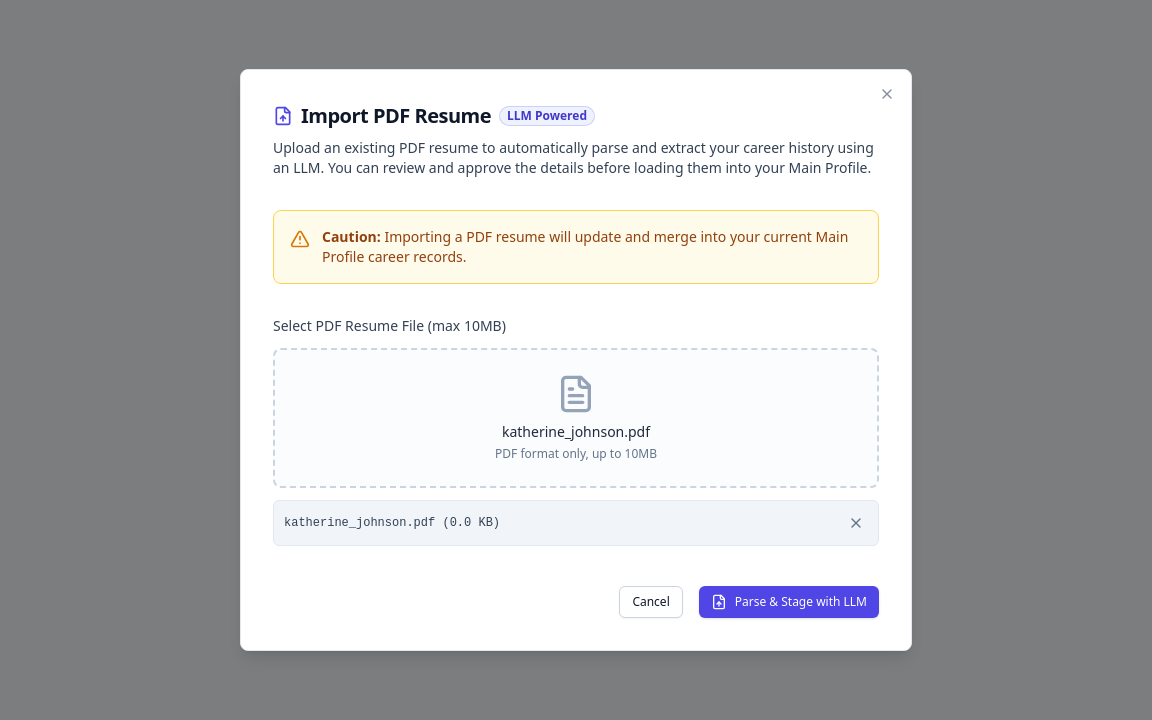
it: ImportPDFDialog › completes full staging and commit lifecycle: parse -> review -> commit
Earlier steps of the test are not shown.
Later steps or results of the test are not shown.
Click the button "Parse & Stage with LLM" at coordinates (789, 602), box [699, 586, 879, 618]
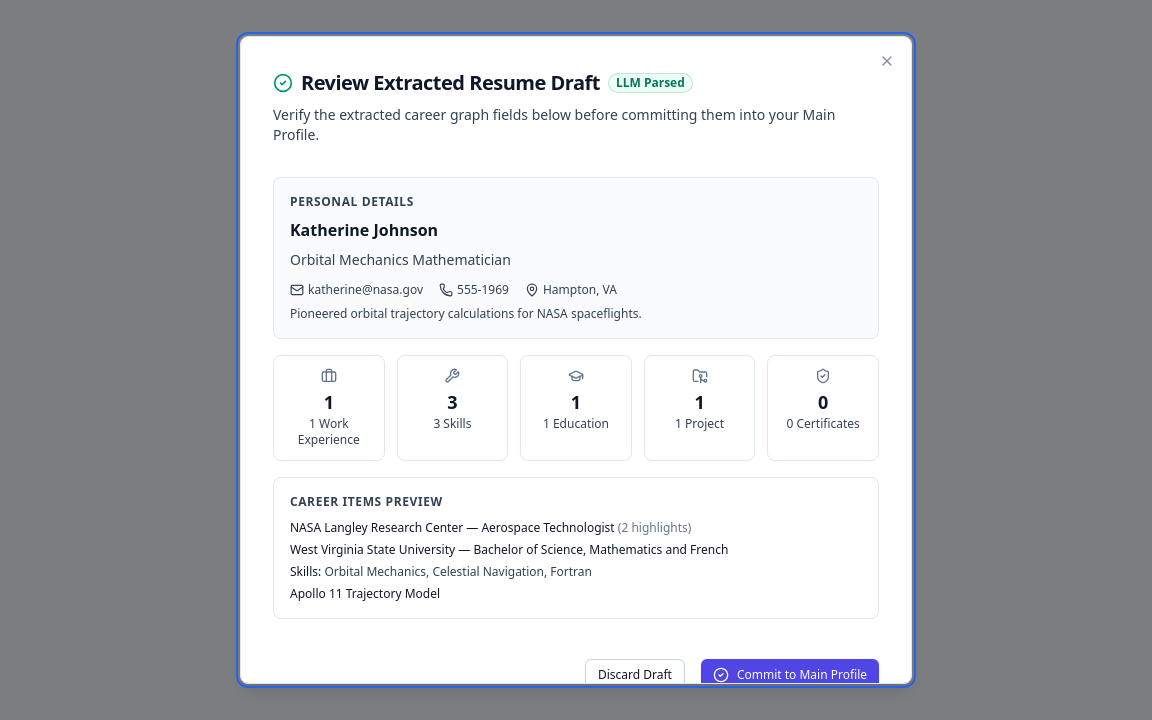
Expected: the heading "Review Extracted Resume Draft" is shown, [301, 69, 600, 97]
Expected: the text "Katherine Johnson" is shown, [290, 219, 438, 241]
Expected: the text "Orbital Mechanics Mathematician" is shown, [290, 250, 511, 269]
